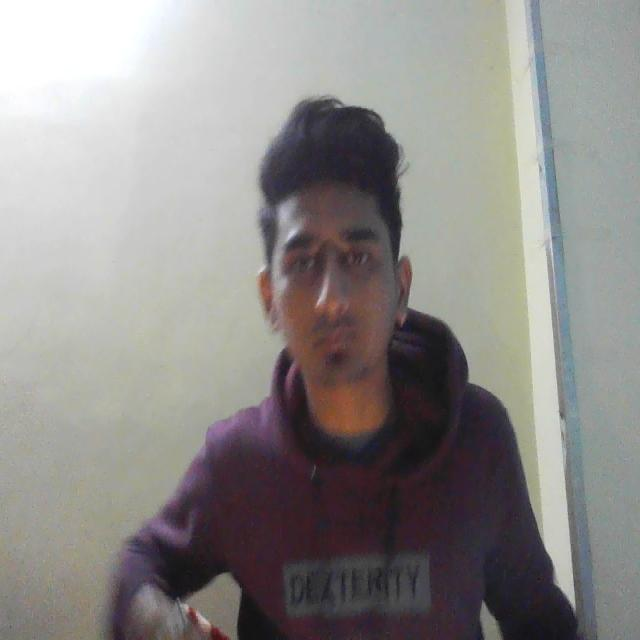real: (257, 101, 429, 427)
